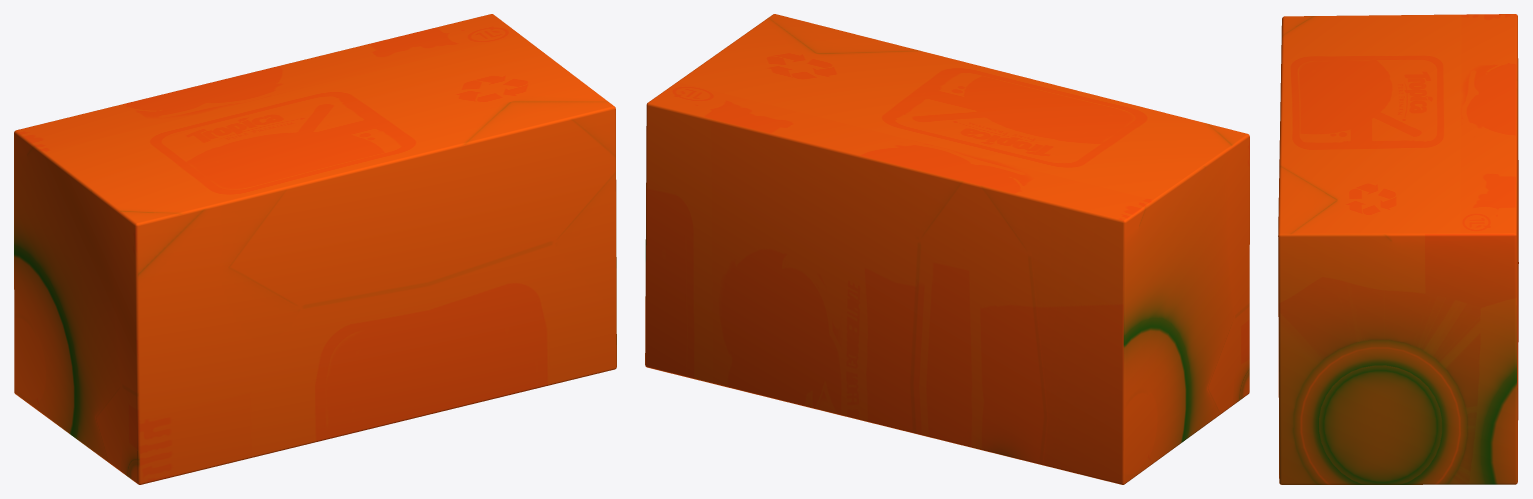
File: sir_winston_tea.fbx
3 views of the same model, side by side, from view 1: azimuth 30°, elevation 25°; view 2: azimuth 150°, elevation 25°; view 3: azimuth 270°, elevation 25° (orthographic). The views are drawn at different scales.
Parts seen in each view (by area): view 1: the_modelobjcleanermaterialmergergles; view 2: the_modelobjcleanermaterialmergergles; view 3: the_modelobjcleanermaterialmergergles.
Boxes of the visible parts, left/top/right/bottom form: the_modelobjcleanermaterialmergergles: left=14, top=14, right=616, bottom=484; the_modelobjcleanermaterialmergergles: left=645, top=14, right=1249, bottom=484; the_modelobjcleanermaterialmergergles: left=1278, top=14, right=1518, bottom=484.
Size of the model in its own units: 0.2003 by 0.1055 by 0.0913.
